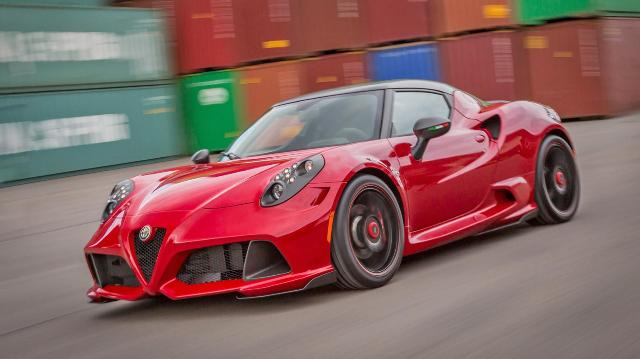alpha-romeo: (84, 78, 582, 306)
